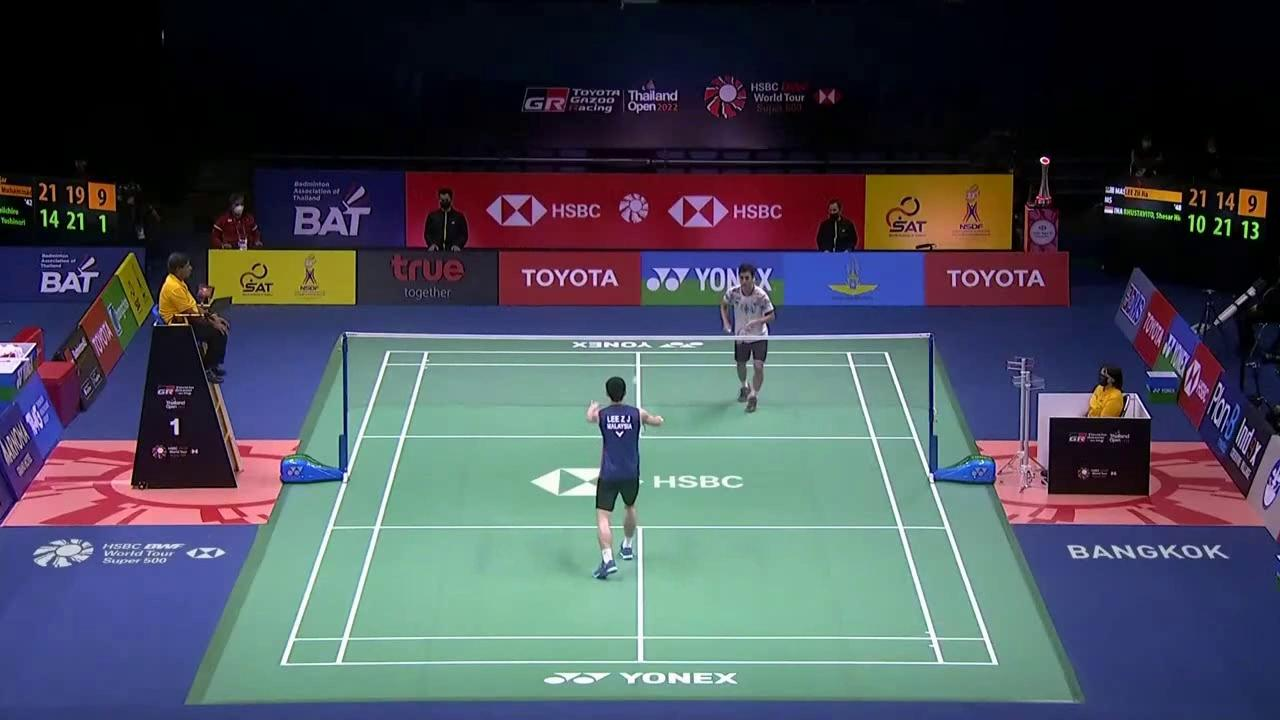racket: (727, 327, 746, 345), (638, 418, 649, 435)
shuttle: (632, 374, 641, 386)
